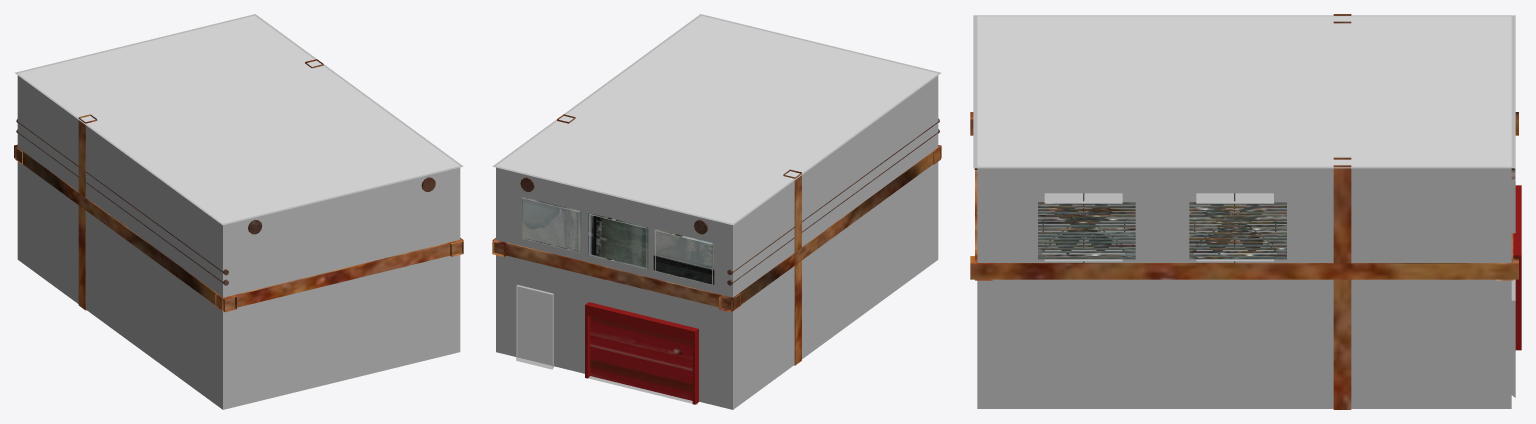
File: ware house bake .fbx
The picture shows the model from 3 angles, left to right: view 1: azimuth 30°, elevation 25°; view 2: azimuth 150°, elevation 25°; view 3: azimuth 270°, elevation 25°; orthographic projection. The views are drawn at different scales.
Visible parts, largest first — view 1: ware_house1; view 2: ware_house1; view 3: ware_house1.
Boxes of the visible parts, <box> form: ware_house1: <box>14,14,463,409</box>; ware_house1: <box>492,14,941,409</box>; ware_house1: <box>970,14,1521,409</box>.
Size of the model in its own units: 21.19 by 15.3 by 30.95.
